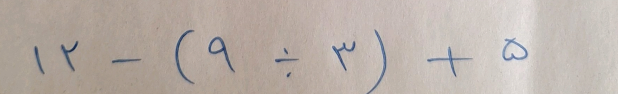character: (426, 43, 475, 78), (173, 25, 200, 87), (365, 27, 389, 93), (206, 36, 240, 80), (272, 47, 303, 81), (498, 34, 532, 65), (330, 38, 357, 73), (59, 39, 82, 75), (111, 53, 143, 73), (32, 42, 48, 78)
